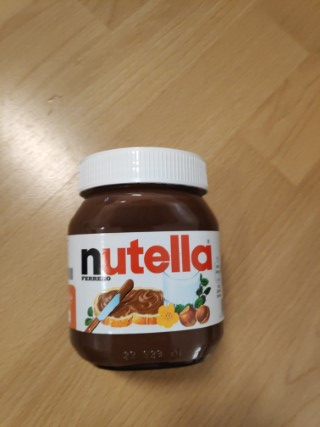nutella: (64, 143, 227, 373)
